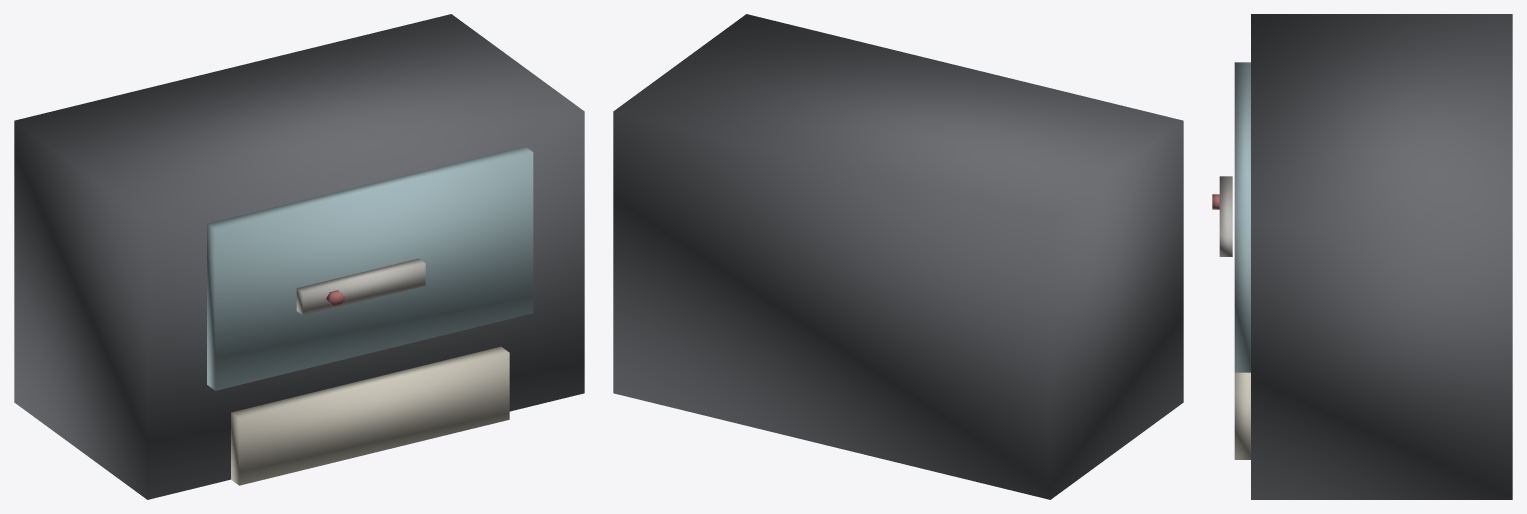
The model's file is flat_monitor__wide.glb.
3 renders of one model, left to right at view 1: azimuth 30°, elevation 25°; view 2: azimuth 150°, elevation 25°; view 3: azimuth 270°, elevation 25°, orthographic.
Parts seen in each view (by area): view 1: world; view 2: world; view 3: world.
Part boxes in pixels (x1=…): world: x1=14, y1=14, x2=584, y2=499; world: x1=613, y1=14, x2=1183, y2=499; world: x1=1212, y1=14, x2=1512, y2=499.
Bounding box in the file's own units: 0.682 × 0.42 × 0.4135.
